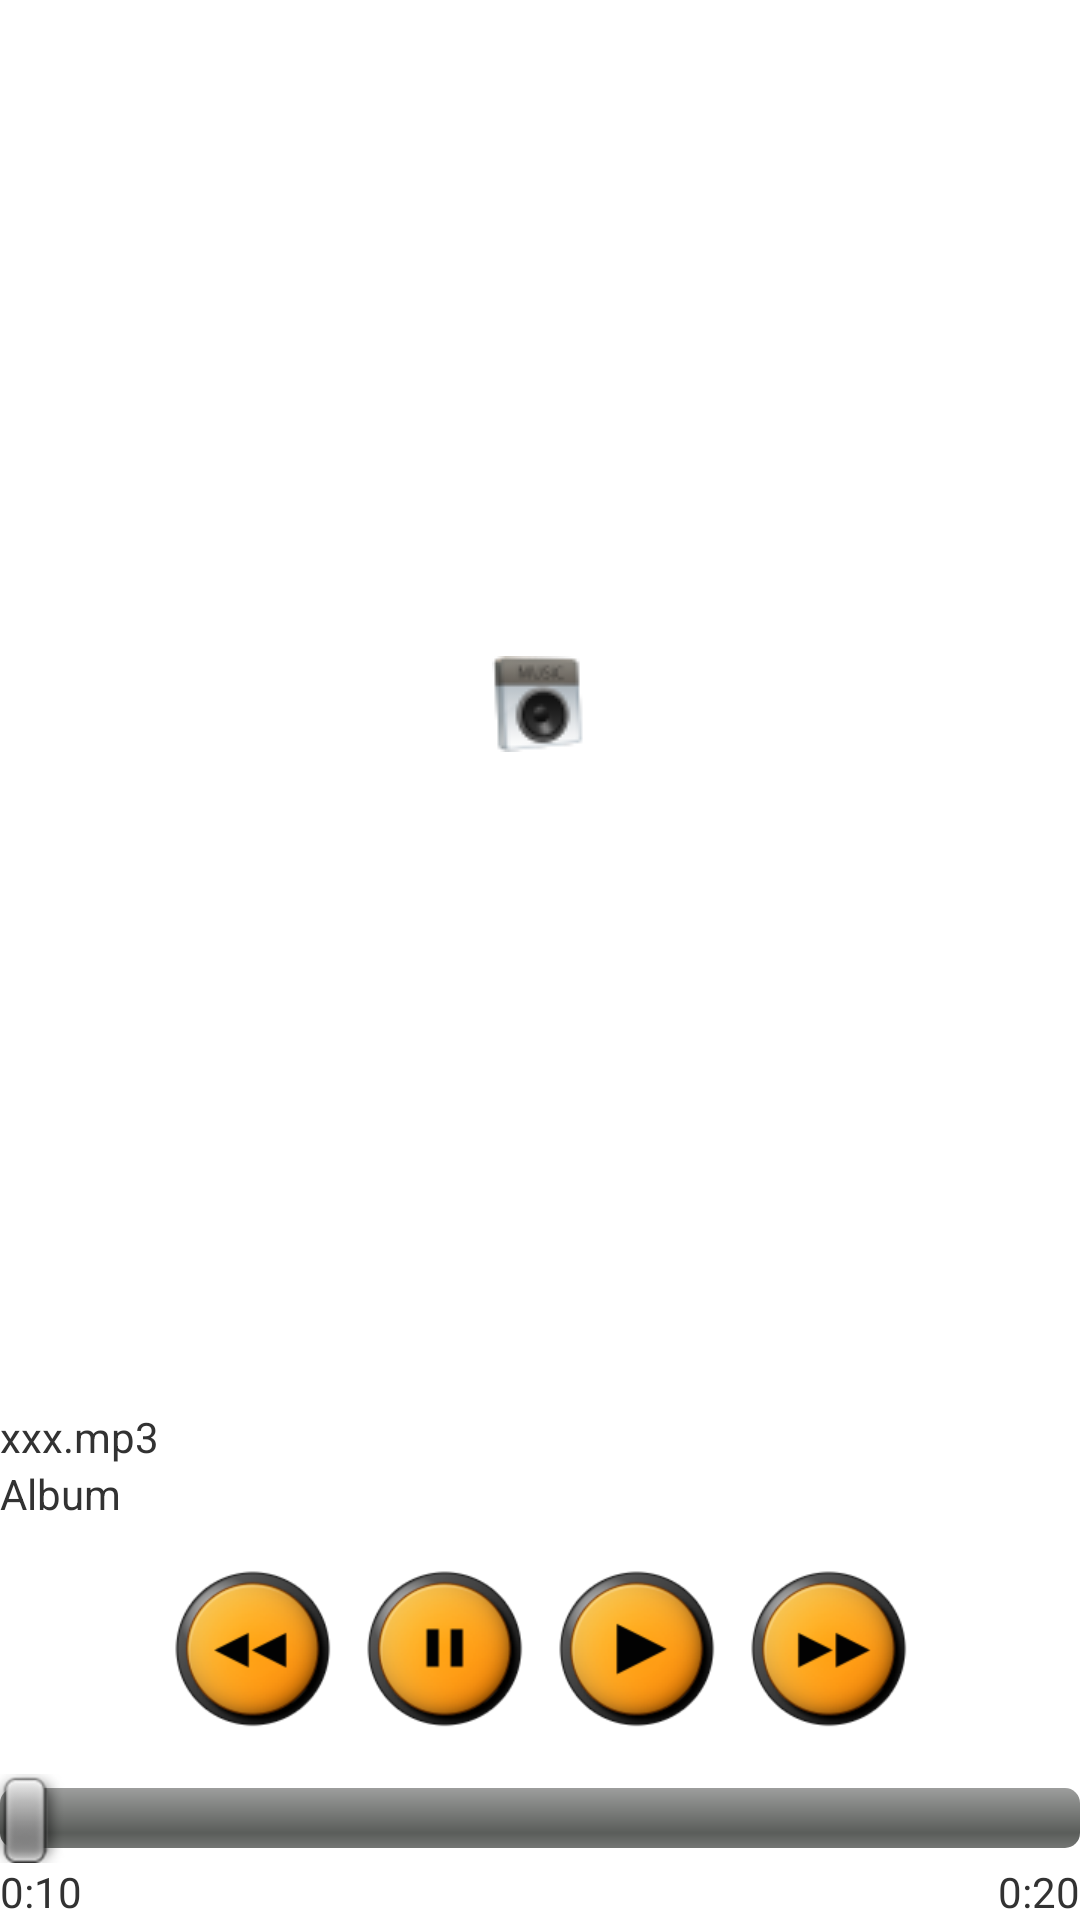

Named icons in this screenshot (1080 × 1920) and their centers, [x,y]:
audio file: [538,704]
next: [828,1648]
pause: [444,1648]
play: [636,1648]
previous: [252,1648]
